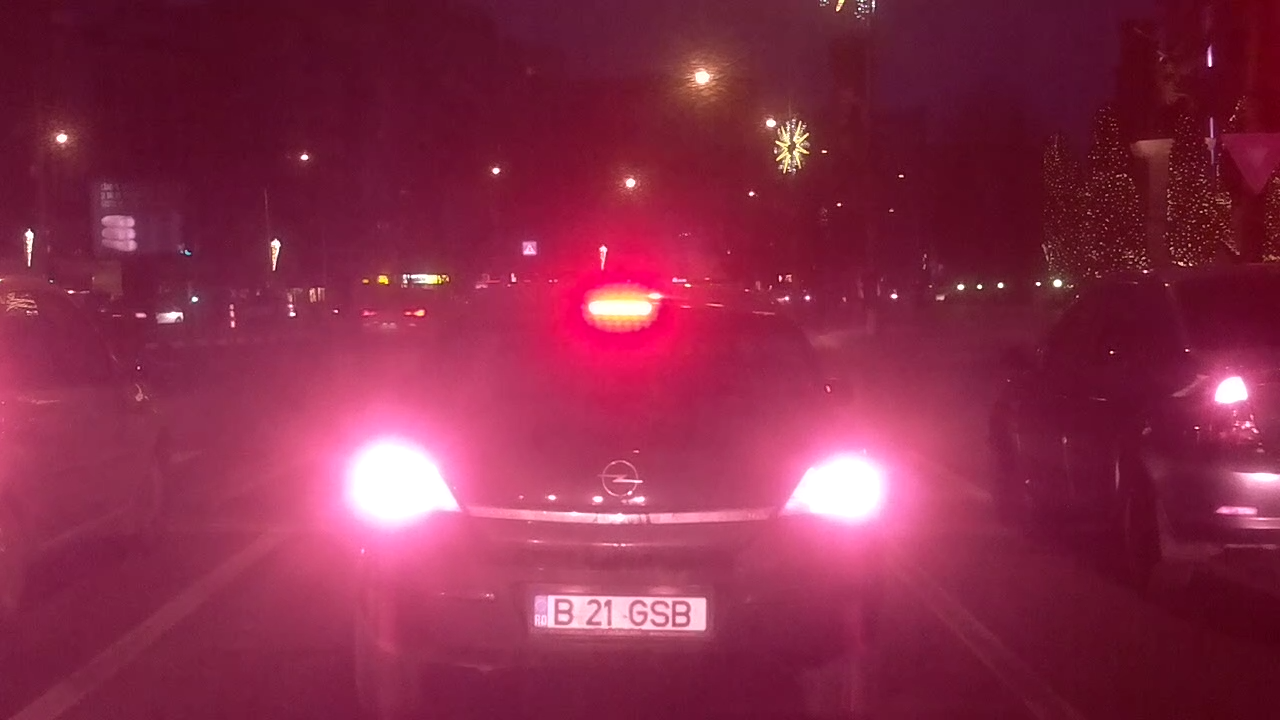license-plate: (529, 589, 711, 634)
